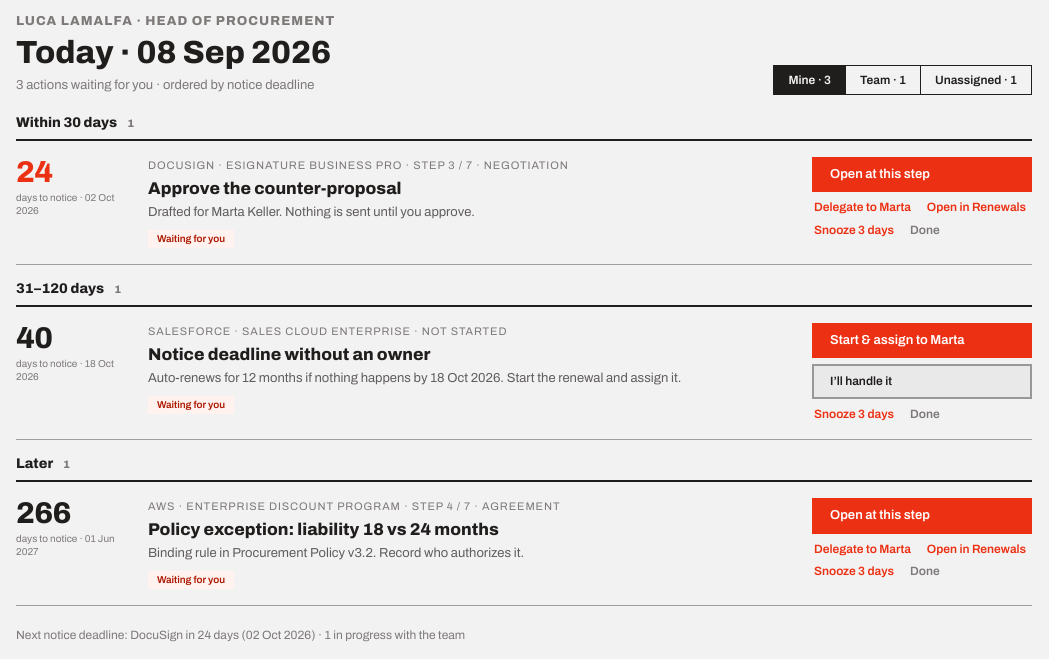
Today › Team lists what waits on others, with how long a case has stood still
What coordinates should you click on to do the following:
click the button "Team · 1"
I would click on:
 (883, 80)
Its box is [846,66,921,94].
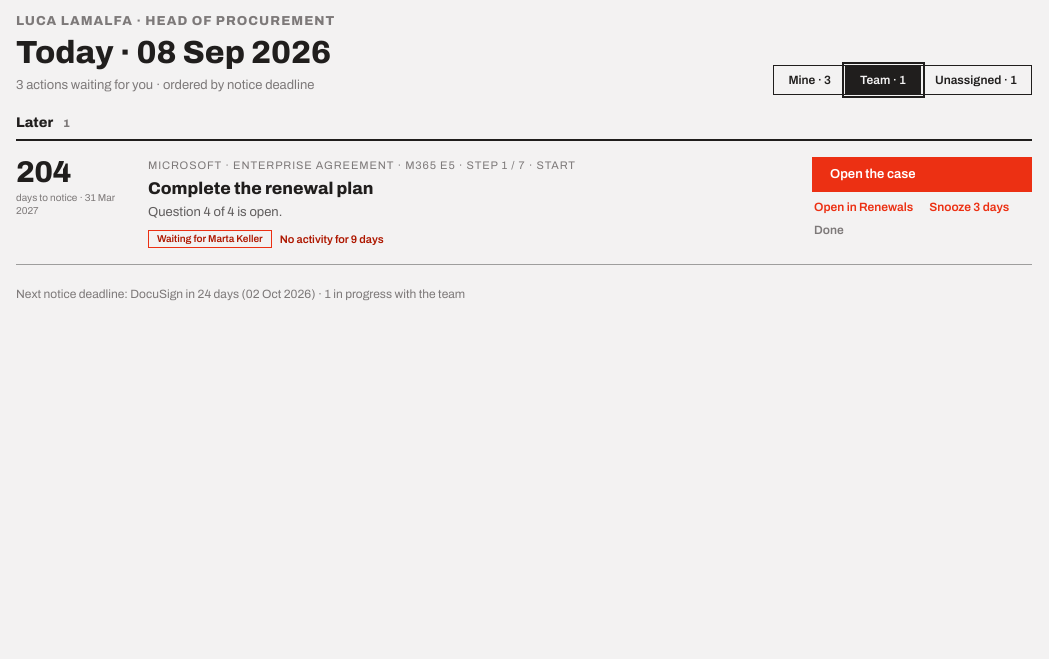
Check: the text "No activity for 9 days" is shown, box [280,231,384,248]
Check: the button "Open the case" is shown, box [812,157,1032,192]
